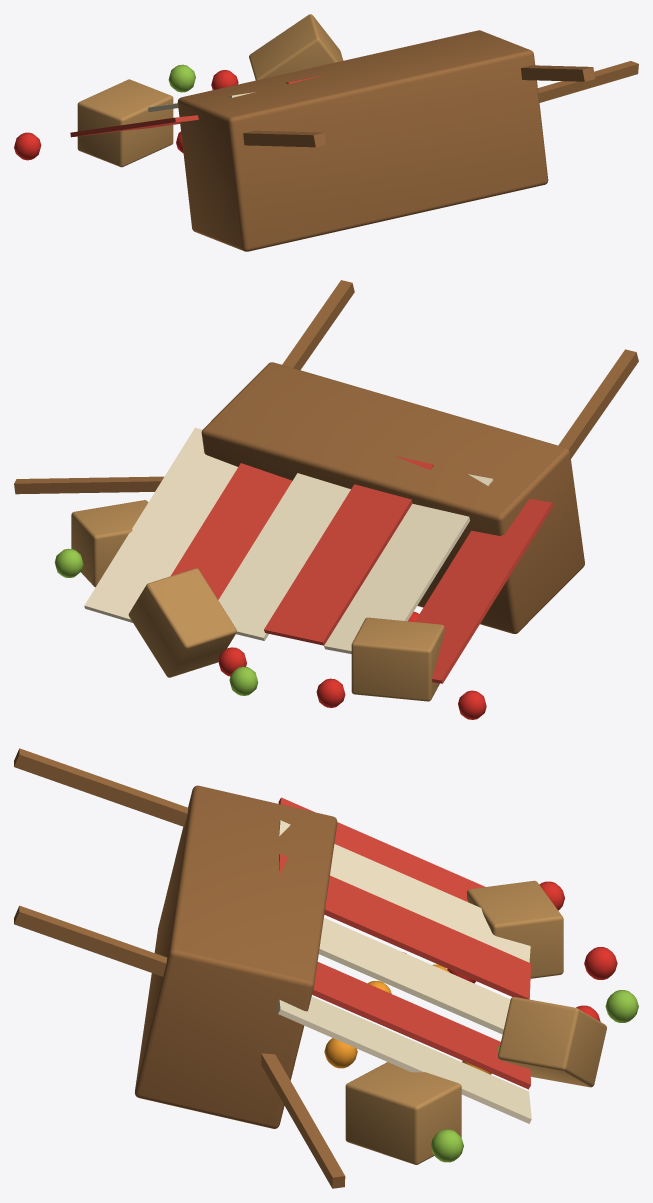
File: stall_wreck.glb
3 views of the same model, one above another, from view 1: azimuth 30°, elevation 25°; view 2: azimuth 150°, elevation 25°; view 3: azimuth 270°, elevation 25° (orthographic). The views are drawn at different scales.
Visible parts, largest first — view 1: counter, crate0, crate1, pole, leg-1.0, leg1.0, aw0, fruit2, fruit7, fruit13; view 2: counter, aw2, aw5, aw3, aw1, aw0, crate1, aw4, crate0, crate2, pole, leg-1.0 (+5 smaller); view 3: counter, crate2, aw2, aw5, aw3, aw4, crate1, aw1, crate0, leg-1.0, aw0, leg1.0 (+5 smaller).
Part boxes in pixels (<box>): counter: <box>177,30,548,251</box>; crate0: <box>77,79,173,167</box>; crate1: <box>249,14,343,80</box>; pole: <box>538,61,638,102</box>; leg-1.0: <box>243,130,326,147</box>; leg1.0: <box>521,65,595,81</box>; aw0: <box>70,115,198,137</box>; fruit2: <box>168,64,195,92</box>; fruit7: <box>14,132,41,160</box>; fruit13: <box>211,70,238,89</box>; counter: <box>201,362,584,633</box>; aw2: <box>264,456,433,645</box>; aw5: <box>84,427,237,622</box>; aw3: <box>218,473,350,640</box>; aw1: <box>324,474,493,653</box>; aw0: <box>415,499,553,683</box>; crate1: <box>128,568,236,677</box>; aw4: <box>171,463,292,599</box>; crate0: <box>351,617,444,701</box>; crate2: <box>71,500,148,587</box>; pole: <box>14,476,163,494</box>; leg-1.0: <box>558,349,638,458</box>; counter: <box>135,785,337,1128</box>; crate2: <box>345,1062,461,1164</box>; aw2: <box>279,853,530,999</box>; aw5: <box>277,996,531,1123</box>; aw3: <box>318,918,510,1034</box>; aw4: <box>312,962,530,1089</box>; crate1: <box>498,997,606,1087</box>; aw1: <box>279,820,530,962</box>; crate0: <box>467,880,563,978</box>; leg-1.0: <box>14,748,188,826</box>; aw0: <box>278,797,485,902</box>; leg1.0: <box>14,905,167,976</box>.
Bounding box in the file's own units: 3.96 × 1.3 × 3.36.
